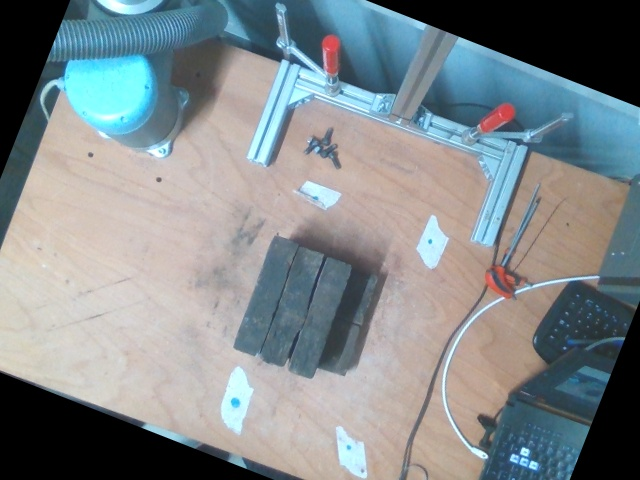brick-side: (231, 234, 300, 357), (257, 246, 323, 368), (288, 257, 351, 379)
